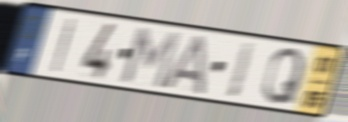4: (78, 20, 116, 83)
A: (160, 32, 208, 97)
I: (224, 39, 259, 101), (49, 16, 79, 76)
M: (119, 24, 183, 91)
Q: (261, 46, 308, 107)
